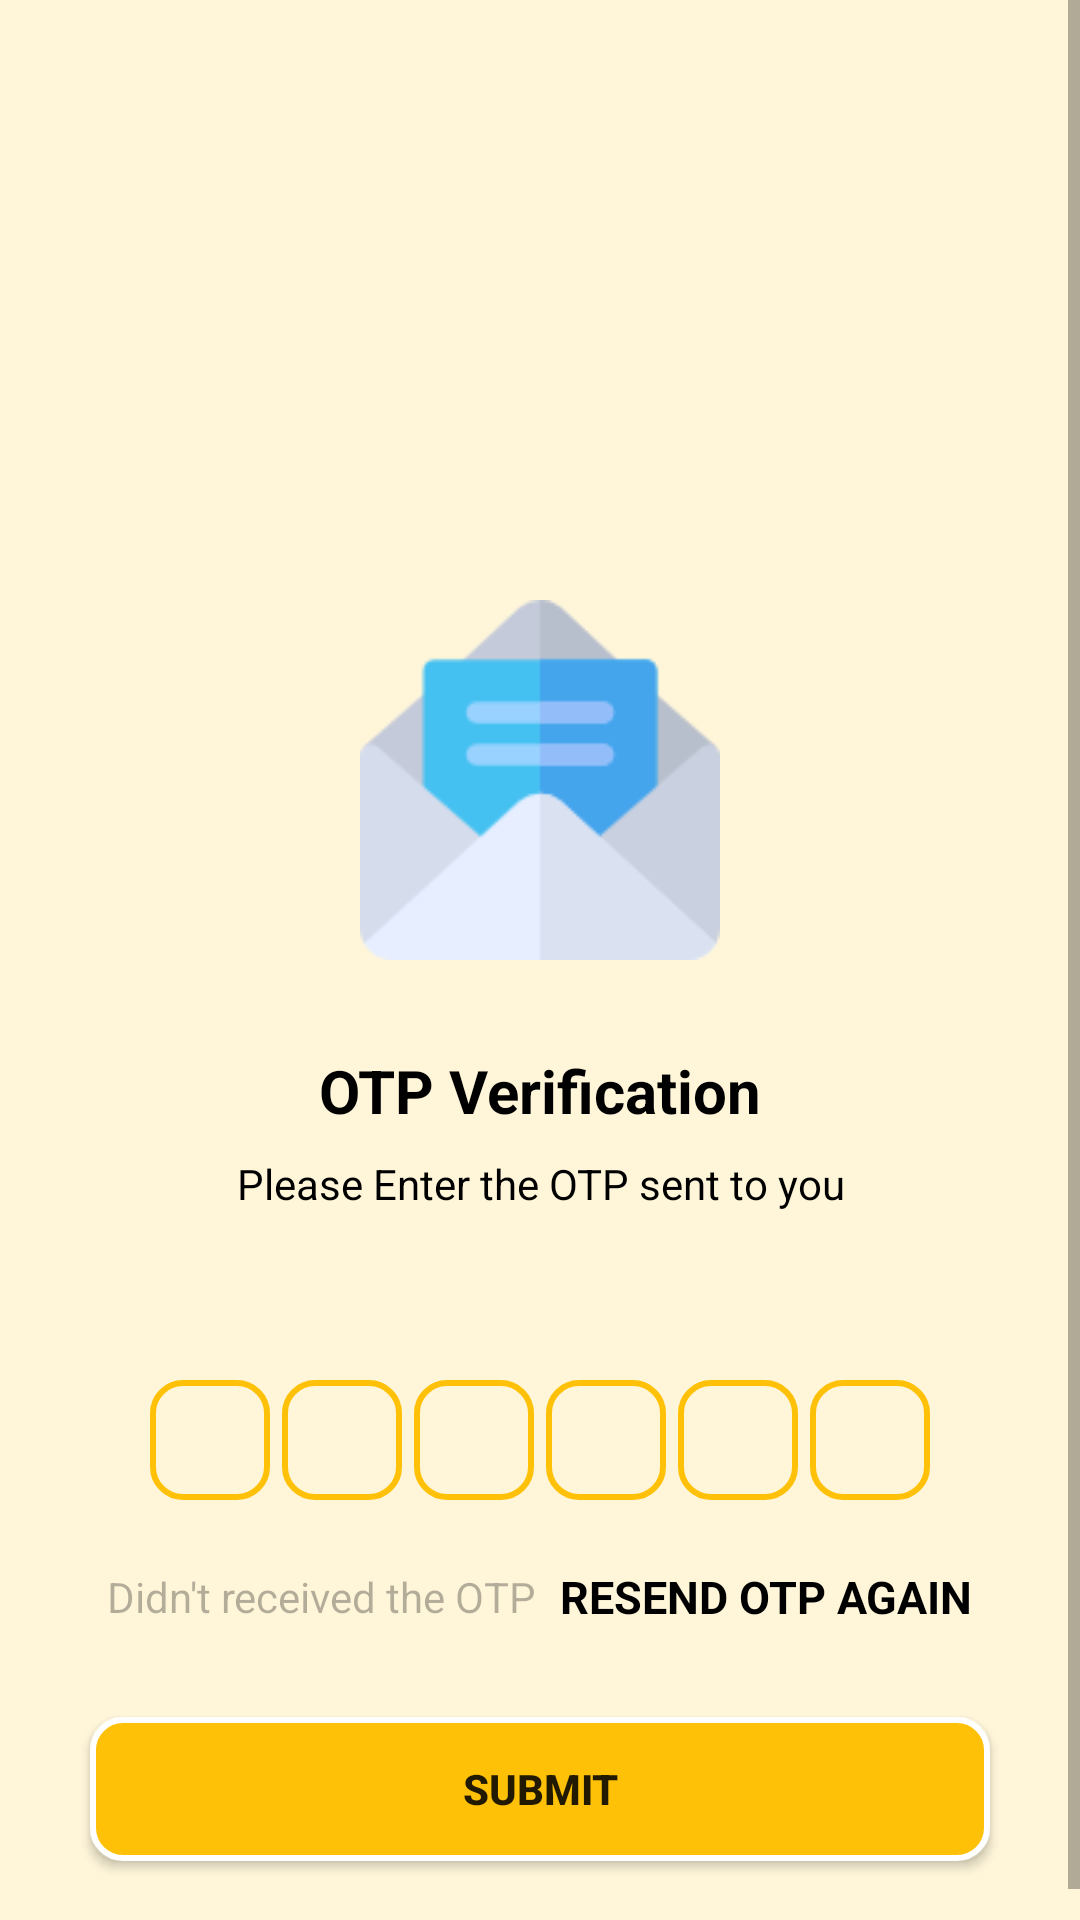

Screen size 1080 x 1920. Icon name, then its center in pixels as (x=x, y=y):
recived: (x=540, y=780)
